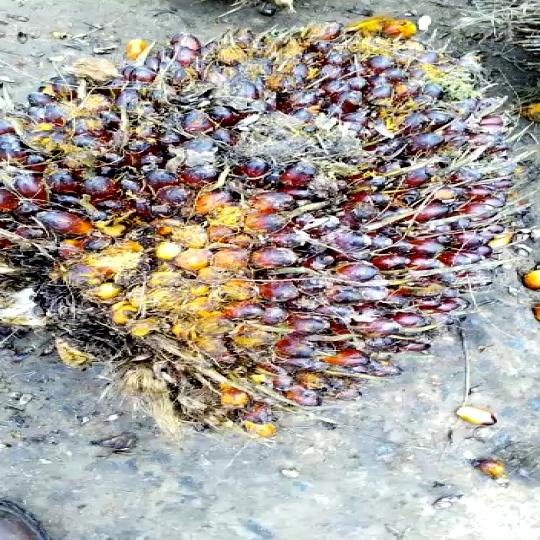kurang masak: (0, 5, 540, 452)
